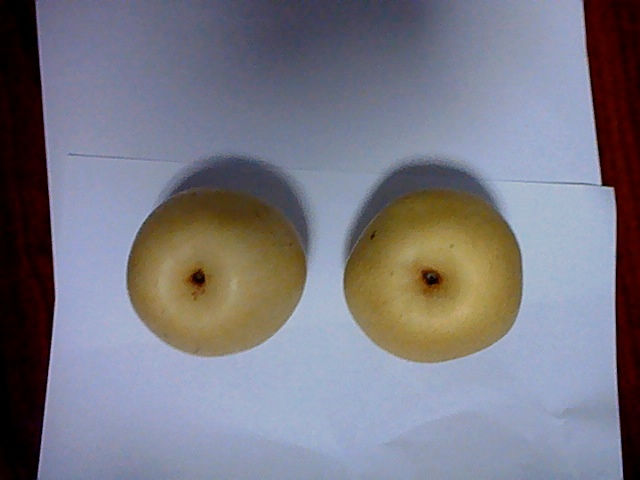pear: (122, 189, 310, 355), (347, 188, 523, 361)
